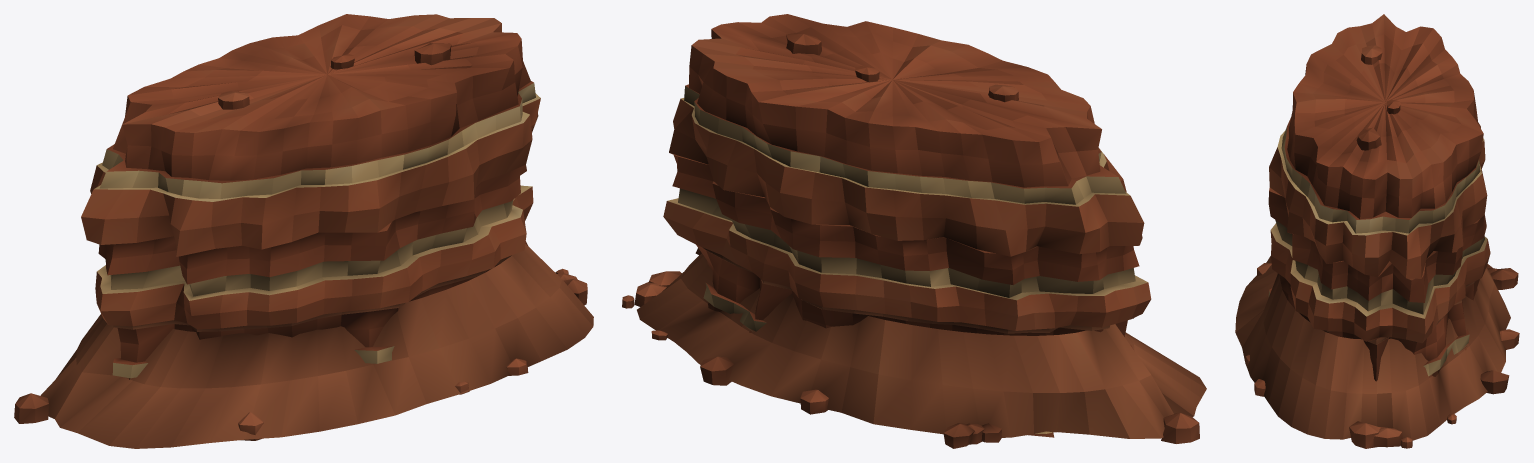
File: mesa_a.glb
The picture shows the model from 3 angles, left to right: view 1: azimuth 30°, elevation 25°; view 2: azimuth 150°, elevation 25°; view 3: azimuth 270°, elevation 25°; orthographic projection. The views are drawn at different scales.
Visible parts, largest first — view 1: rock_red, dirt_red, sand; view 2: rock_red, dirt_red, sand; view 3: rock_red, dirt_red, sand.
Boxes of the visible parts, <box> form: rock_red: <box>14,14,587,440</box>; dirt_red: <box>40,244,593,448</box>; sand: <box>94,83,540,378</box>; rock_red: <box>622,14,1199,448</box>; dirt_red: <box>637,247,1206,438</box>; sand: <box>667,86,1147,433</box>; rock_red: <box>1245,14,1519,448</box>; dirt_red: <box>1235,256,1510,440</box>; sand: <box>1268,126,1487,376</box>.
Size of what is drawn, in the model's own units: 204 by 103 by 103.
